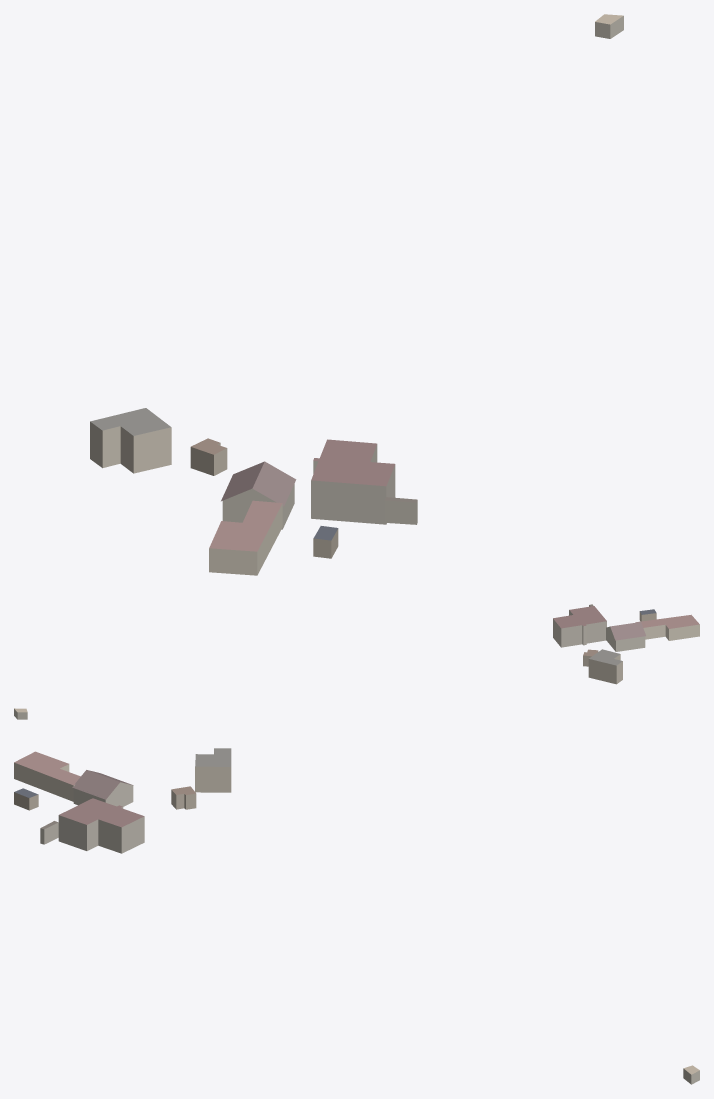
The picture shows the model from 3 angles, top to bottom: view 1: azimuth 30°, elevation 25°; view 2: azimuth 150°, elevation 25°; view 3: azimuth 270°, elevation 25°; orthographic projection. The views are drawn at different scales.
Visible parts, largest first — view 1: tuile; view 2: tuile; view 3: tuile.
Boxes of the visible parts, x1,y1,x2,y2 form: tuile: (90, 14, 623, 575); tuile: (14, 604, 699, 719); tuile: (14, 748, 699, 1084).
Size of the model in its own units: 222 by 15.81 by 215.
